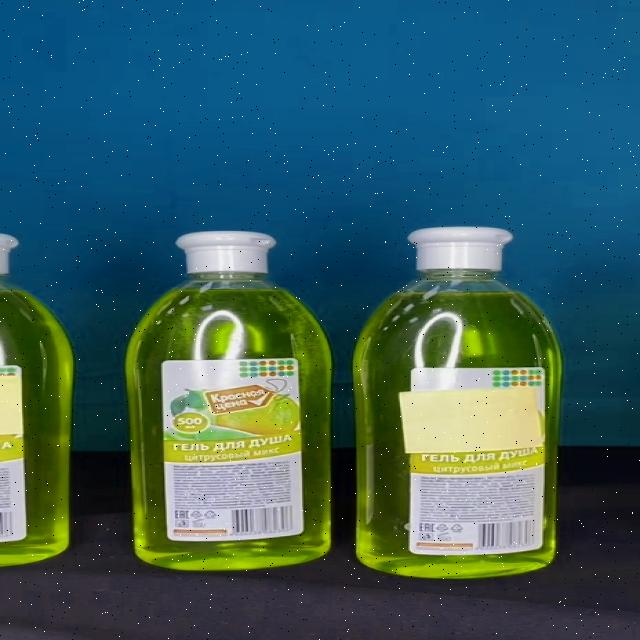Bottle: (354, 227, 562, 578), (124, 231, 332, 572)
Cap: (408, 228, 512, 271), (175, 230, 279, 272)
